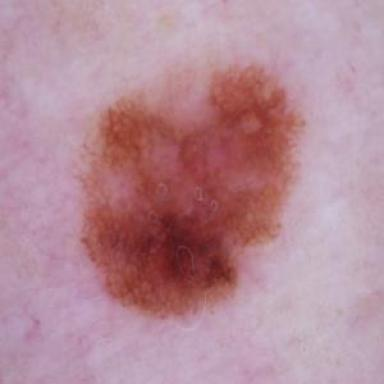Melanoma: (83, 67, 303, 316)
